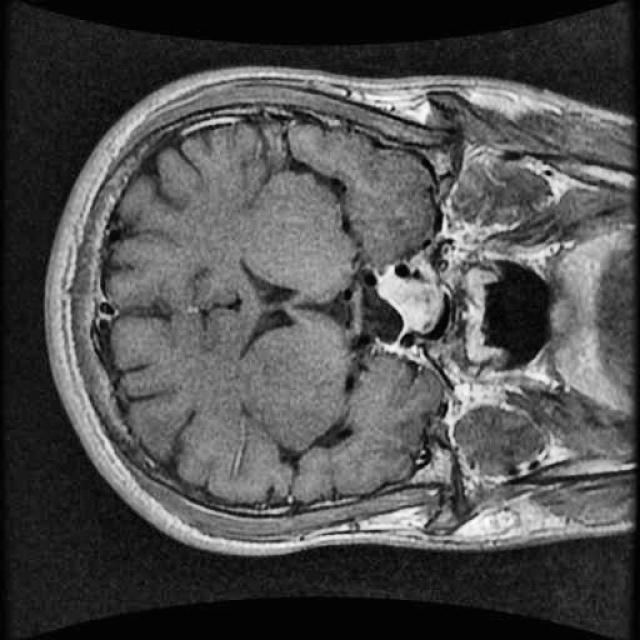Tumor: (370, 249, 462, 351)
